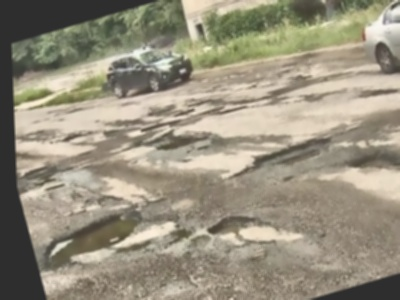pothole: (32, 204, 150, 276), (200, 197, 295, 262), (226, 130, 336, 184), (152, 127, 209, 156), (347, 147, 399, 178)
